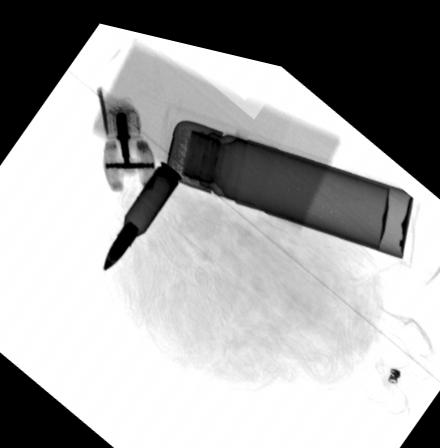Bullet: (101, 150, 183, 268)
